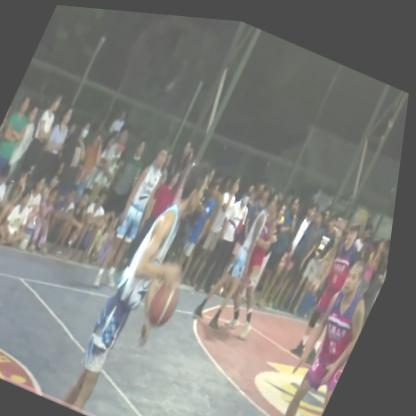basketball: (146, 269, 197, 334)
